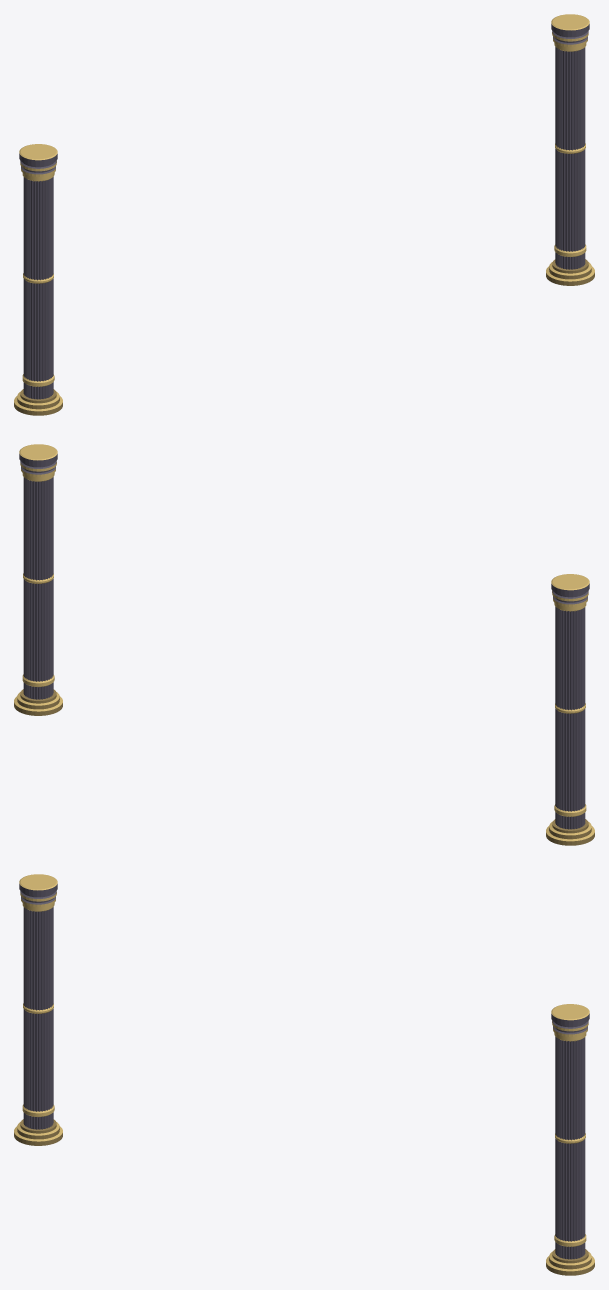
The model's file is SM_Pillars.fbx.
3 views of the same model, one above another, from view 1: azimuth 30°, elevation 25°; view 2: azimuth 150°, elevation 25°; view 3: azimuth 330°, elevation 25° (orthographic).
Visible parts, largest first — view 1: Pillar_R_Core, Pillar_L_Core, Pillar_L_Cap, Pillar_R_Cap, Pillar_L_Base, Pillar_R_Base; view 2: Pillar_R_Core, Pillar_L_Core, Pillar_L_Cap, Pillar_R_Cap, Pillar_L_Base, Pillar_R_Base; view 3: Pillar_L_Core, Pillar_R_Core, Pillar_R_Cap, Pillar_L_Cap, Pillar_R_Base, Pillar_L_Base.
Boxes of the visible parts, x1=… form: Pillar_R_Core: x1=555, y1=47, x2=585, y2=269; Pillar_L_Core: x1=23, y1=177, x2=53, y2=399; Pillar_L_Cap: x1=19, y1=144, x2=57, y2=181; Pillar_R_Cap: x1=551, y1=14, x2=589, y2=51; Pillar_L_Base: x1=14, y1=389, x2=62, y2=415; Pillar_R_Base: x1=546, y1=259, x2=594, y2=285; Pillar_R_Core: x1=23, y1=477, x2=53, y2=699; Pillar_L_Core: x1=555, y1=607, x2=585, y2=829; Pillar_L_Cap: x1=551, y1=574, x2=589, y2=611; Pillar_R_Cap: x1=19, y1=444, x2=57, y2=481; Pillar_L_Base: x1=546, y1=819, x2=594, y2=845; Pillar_R_Base: x1=14, y1=689, x2=62, y2=715; Pillar_L_Core: x1=23, y1=907, x2=53, y2=1129; Pillar_R_Core: x1=555, y1=1037, x2=585, y2=1259; Pillar_R_Cap: x1=551, y1=1004, x2=589, y2=1041; Pillar_L_Cap: x1=19, y1=874, x2=57, y2=911; Pillar_R_Base: x1=546, y1=1249, x2=594, y2=1275; Pillar_L_Base: x1=14, y1=1119, x2=62, y2=1145.
Bounding box in the file's own units: 1458 × 616 × 108.
